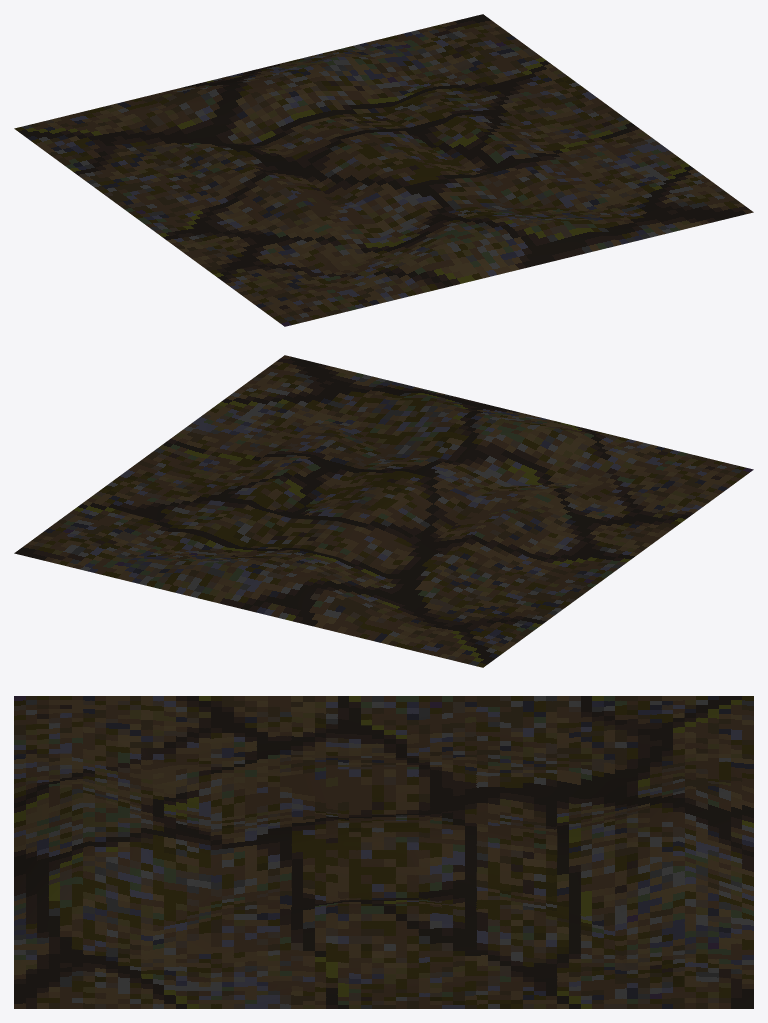
The model's file is Ground.fbx.
3 renders of one model, top to bottom at view 1: azimuth 30°, elevation 25°; view 2: azimuth 150°, elevation 25°; view 3: azimuth 270°, elevation 25°, orthographic. The views are drawn at different scales.
Visible parts, largest first — view 1: Ground; view 2: Ground; view 3: Ground.
Part boxes in pixels (bbox=[...]): Ground: bbox=[14, 14, 753, 326]; Ground: bbox=[14, 355, 753, 667]; Ground: bbox=[14, 696, 753, 1008].
Bounding box in the file's own units: 200 × 7.95 × 200.
1 material, 1 textured.
